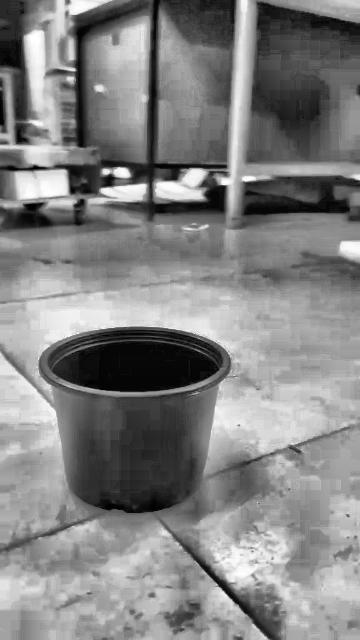pot: (39, 327, 230, 512)
